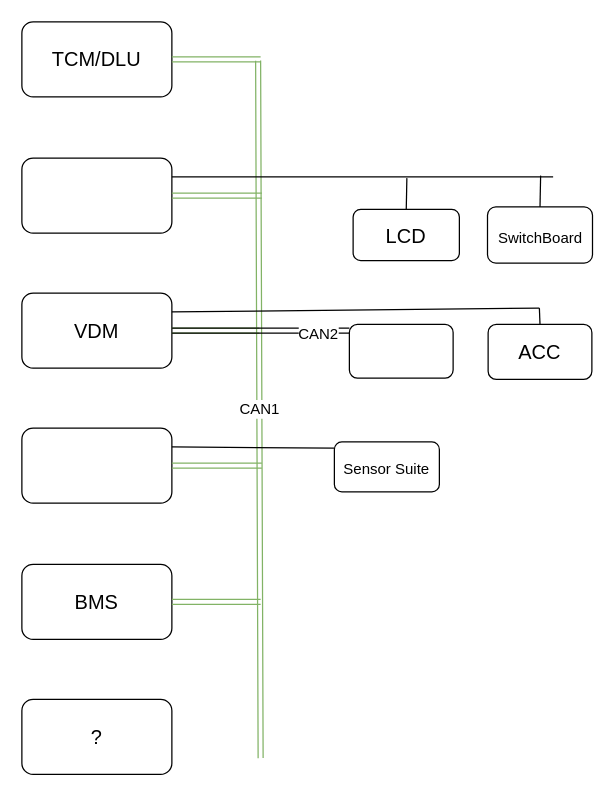
Image size: 615x796. Some labels were removed from this diagram. The box of each missing label's shape, as (x1, y1, x2, y2) in pixels:
BCM: (21, 427, 172, 503)
Dash: (21, 157, 172, 233)
Motor Package: (348, 323, 453, 378)
